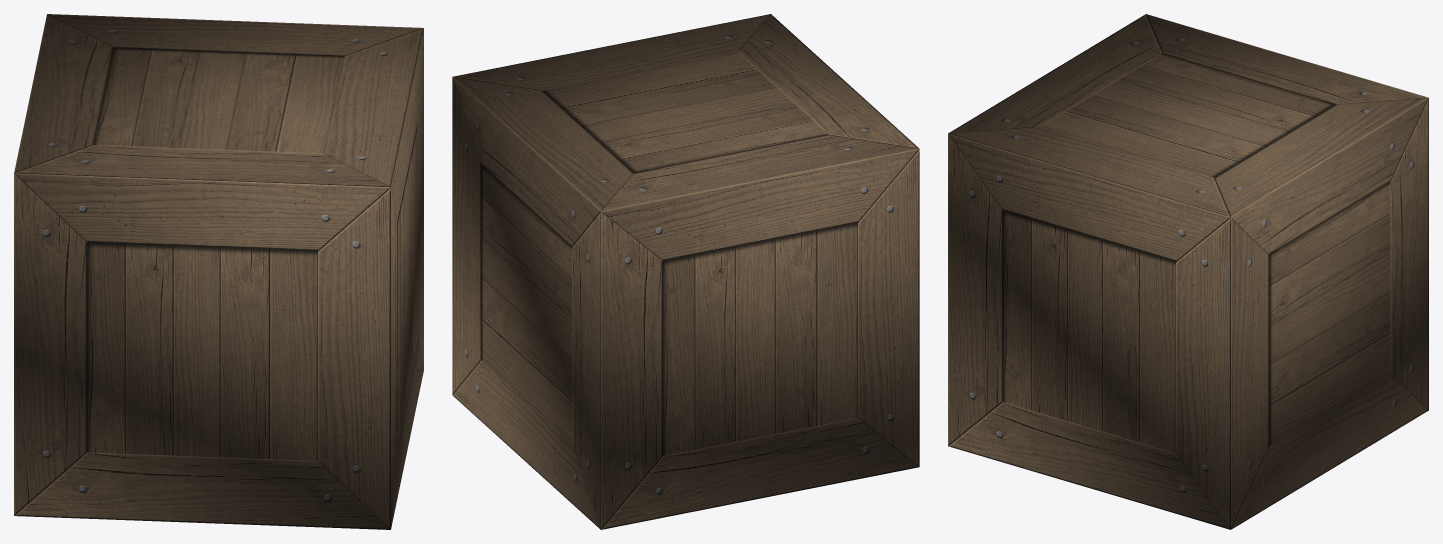
File: WeaponCrate.fbx
The picture shows the model from 3 angles, left to right: view 1: azimuth 30°, elevation 25°; view 2: azimuth 150°, elevation 25°; view 3: azimuth 270°, elevation 25°; orthographic projection. The views are drawn at different scales.
Parts seen in each view (by area): view 1: Cube; view 2: Cube; view 3: Cube.
Part boxes in pixels (box(x1,y1,x2,y2)): Cube: box(14, 14, 423, 529); Cube: box(452, 14, 919, 529); Cube: box(948, 14, 1428, 529).
Size of the model in its own units: 2.79 by 2 by 2.79.
1 material, 1 textured.
